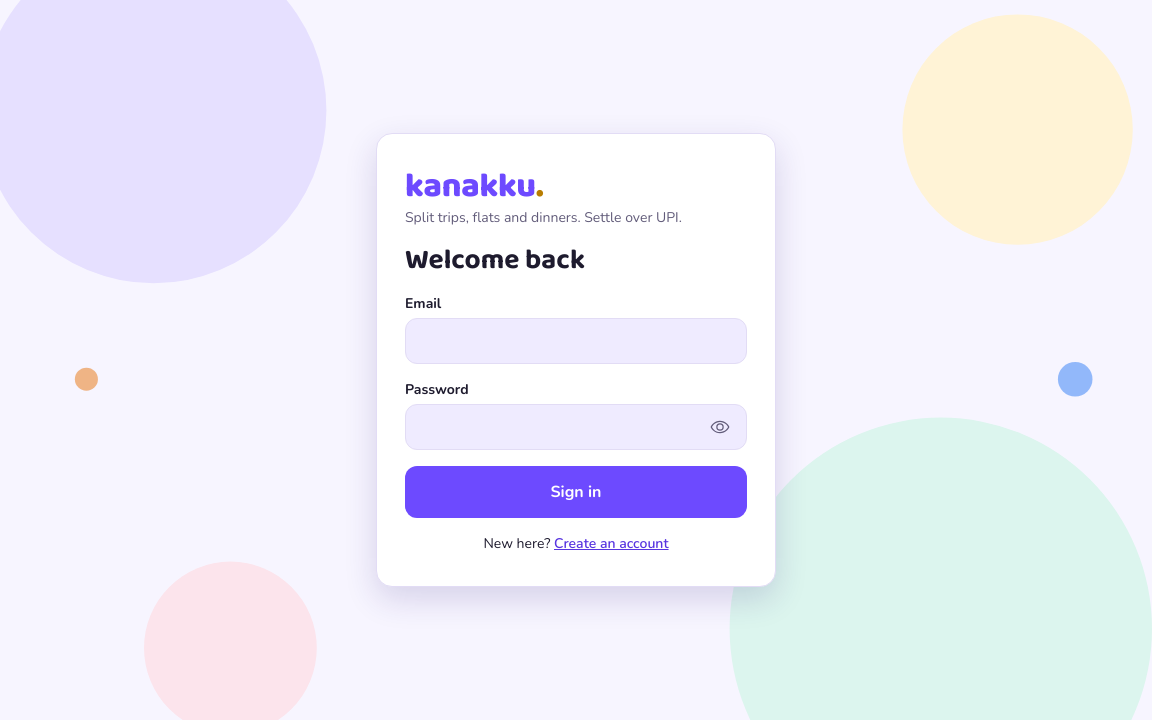
Scenario: SignInPage › gives one generic message for wrong credentials
Step 1. Type "asha@example.com" into the field labelled "Email" → (576, 341), box [406,319,746,363]
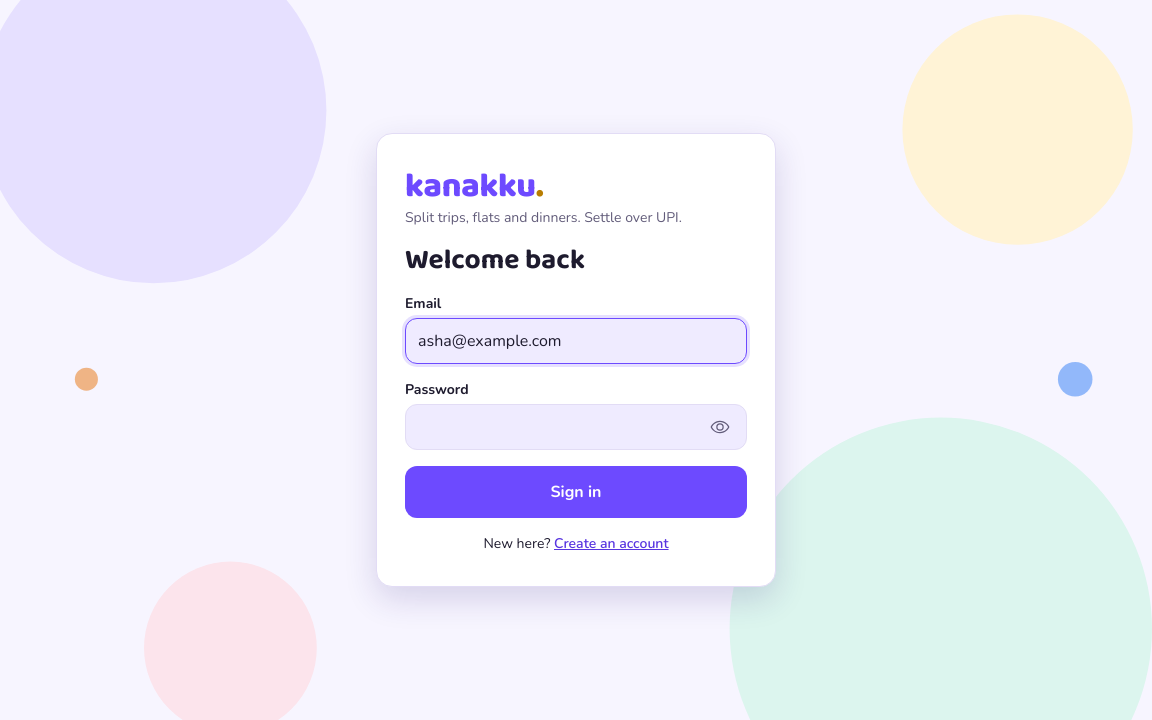
Step 2. Type "wrong" into the password field labelled "Password" → (552, 427), box [406,405,698,449]
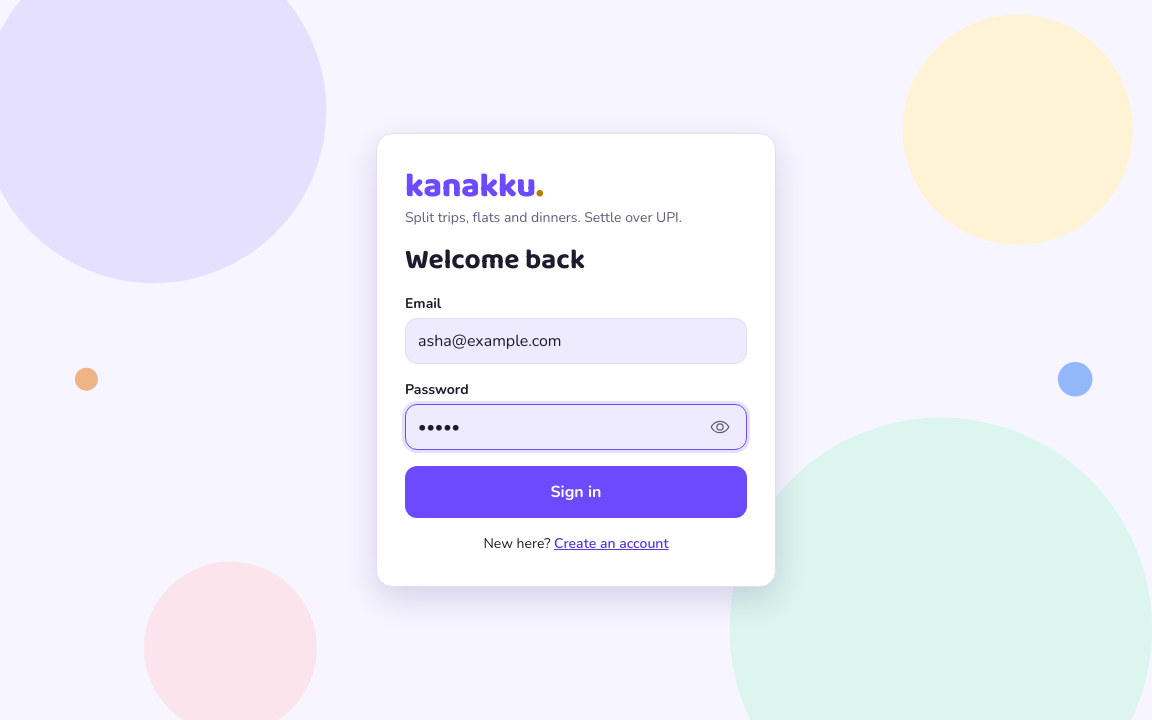
Step 3. Click the button "Sign in" → (576, 492), box [405,466,747,518]
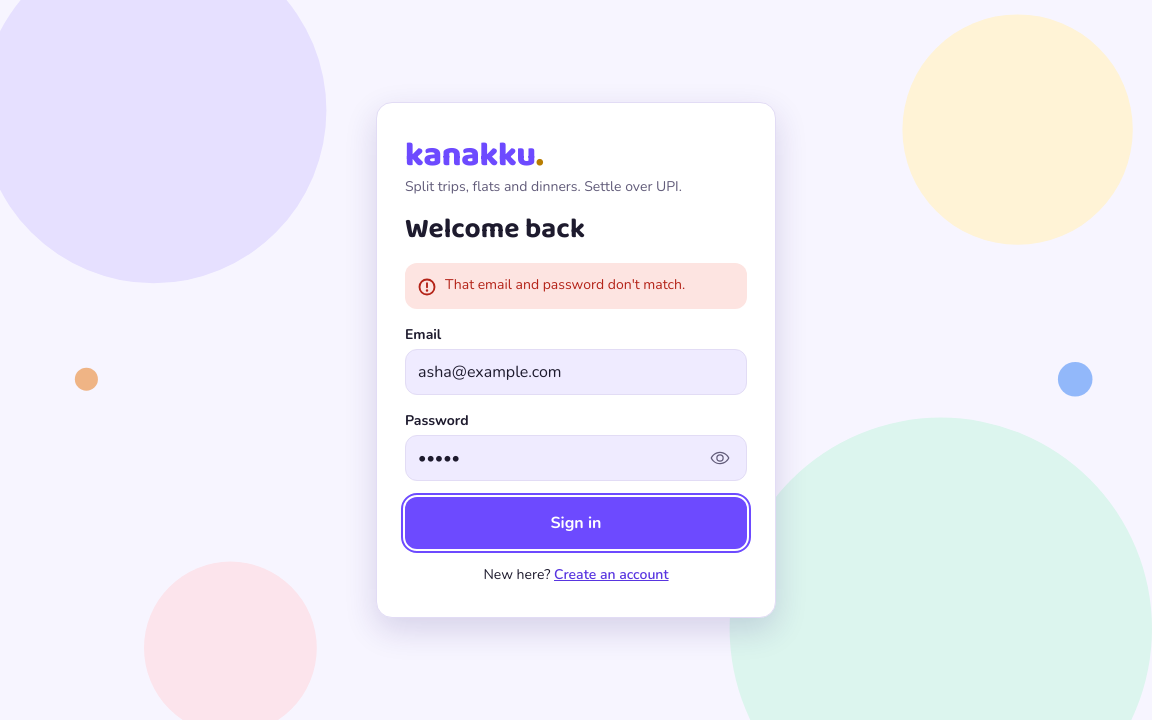
expect the message reads "That email and password don't match.": met, box [445,275,685,294]
